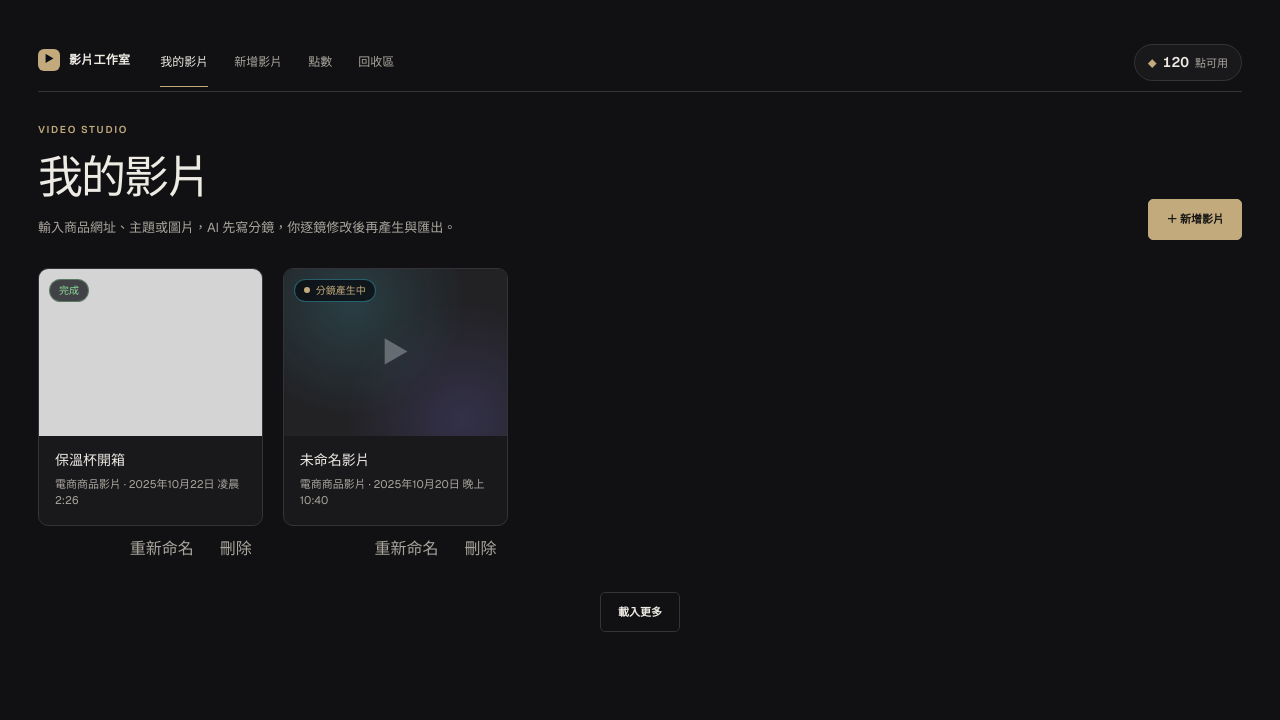
Test: studio list › lists projects as links with status, template title and a load-more cursor
The width and height of the screenshot is (1280, 720).
Expected: the link "未命名影片" shows "分鏡產生中", left=283, top=268, right=508, bottom=526
Click the button "載入更多". click: x=640, y=612
box: left=600, top=592, right=680, bottom=632
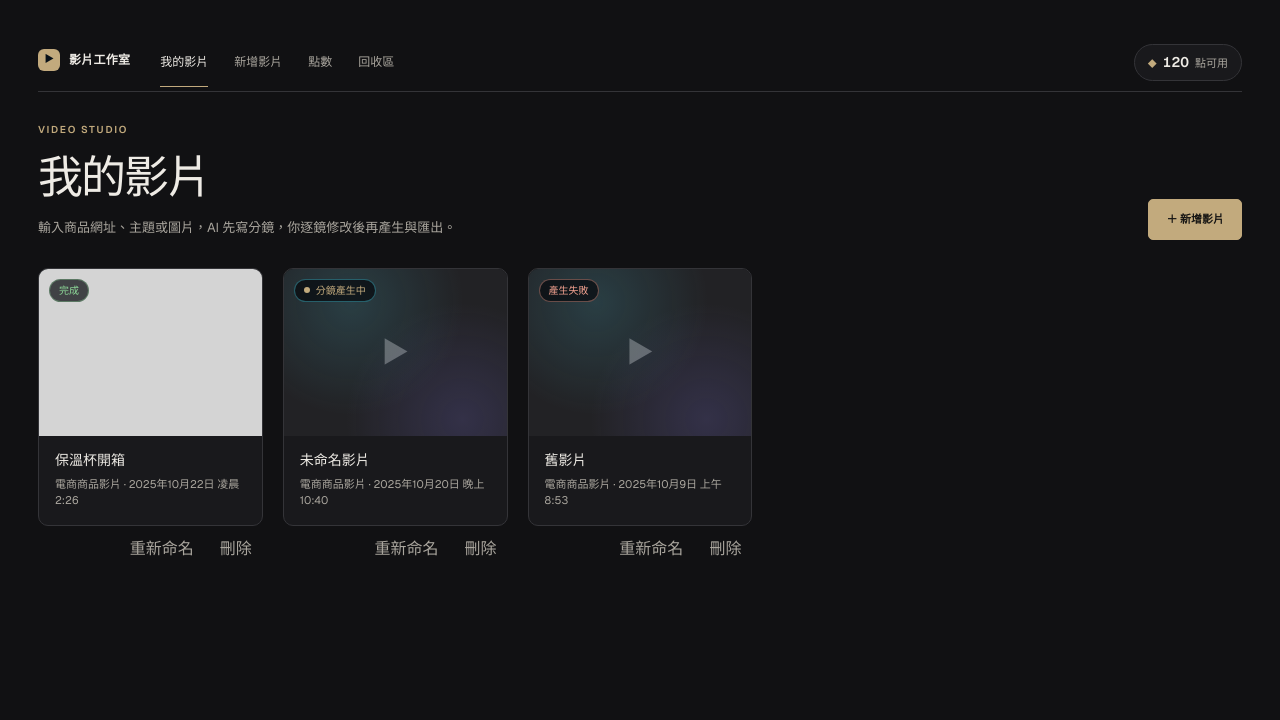
Now the link "舊影片" shows "產生失敗", box left=528, top=268, right=752, bottom=526
Now the button "載入更多" is gone
